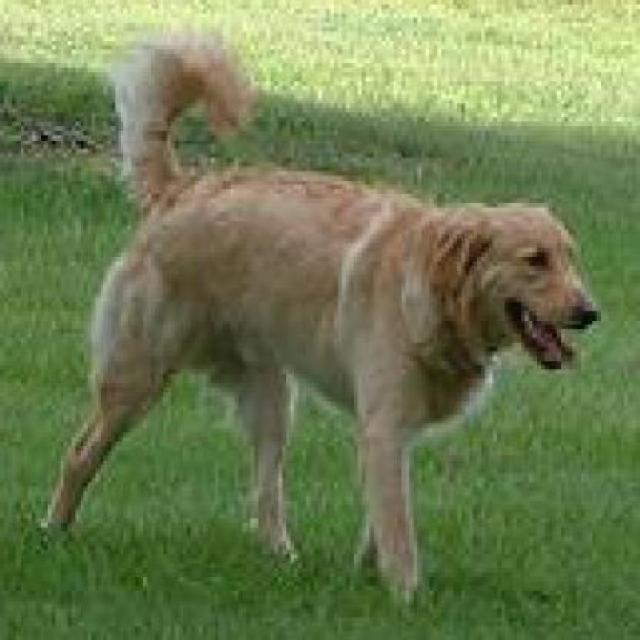Dog: (34, 18, 600, 617)
